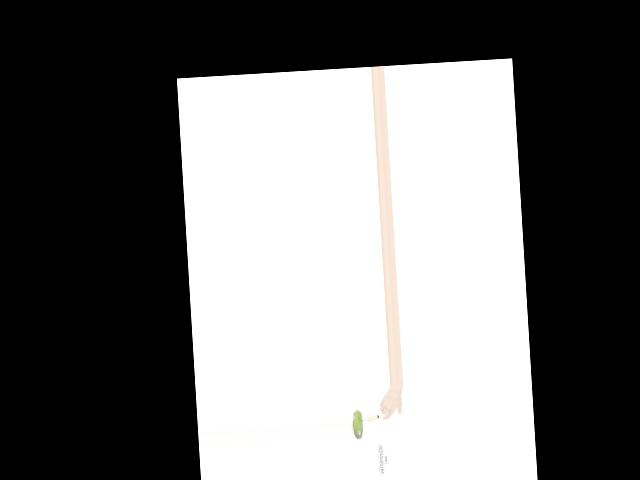cucumber: (352, 409, 363, 439)
